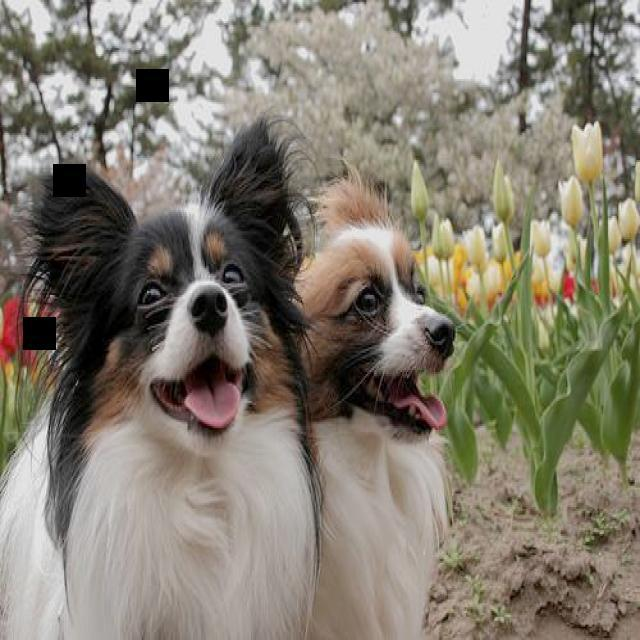adult_dog: (0, 117, 323, 640), (294, 165, 457, 640)
